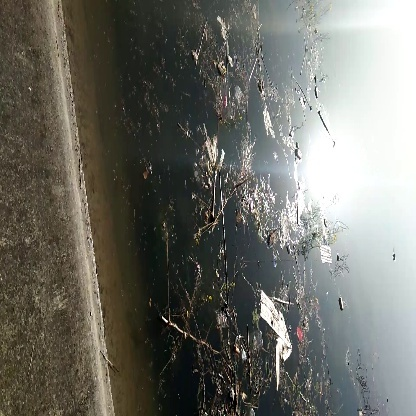plastic-bag: (255, 287, 296, 372)
